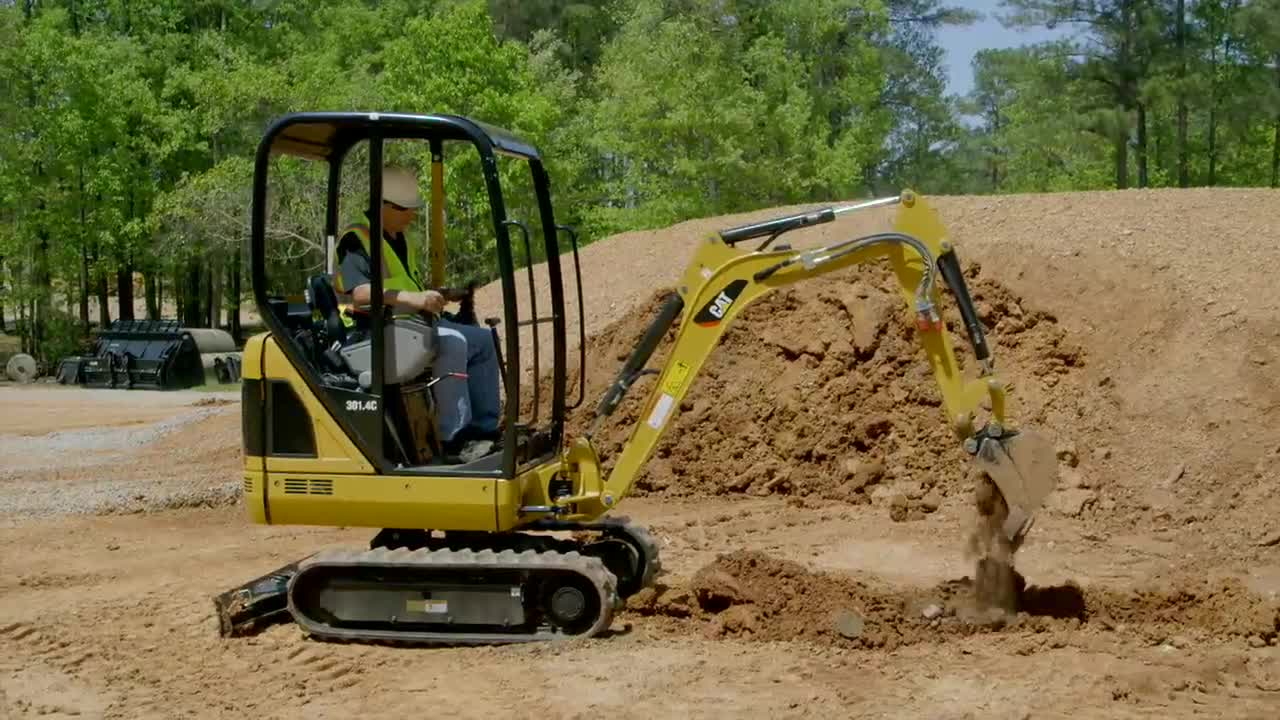attachment-bucket: (966, 420, 1068, 564)
cabin: (221, 102, 582, 531)
forearm: (888, 180, 993, 438)
upperarm: (594, 235, 906, 514)
wheelbase: (276, 513, 671, 650)
